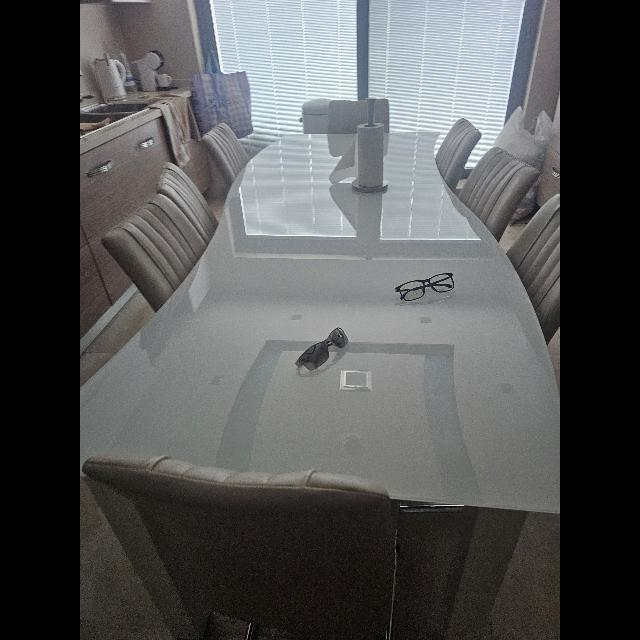Sunglasses: (296, 328, 348, 370)
glasses: (396, 273, 454, 301)
